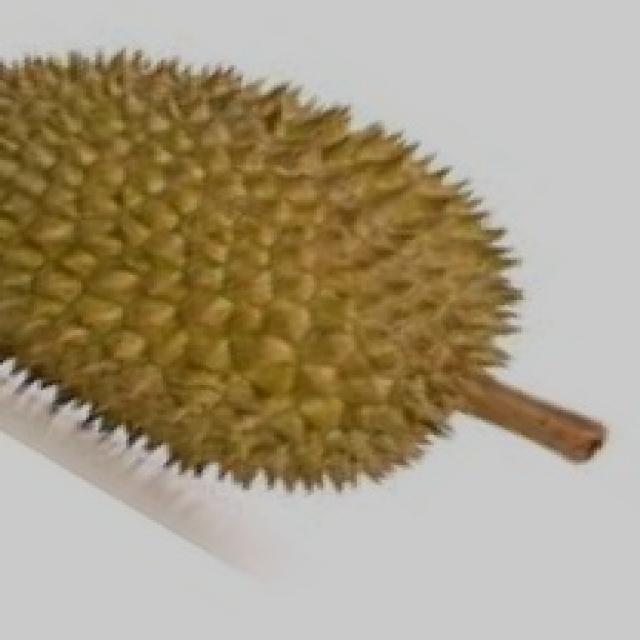fruit: (194, 158, 597, 570), (0, 207, 360, 575)
